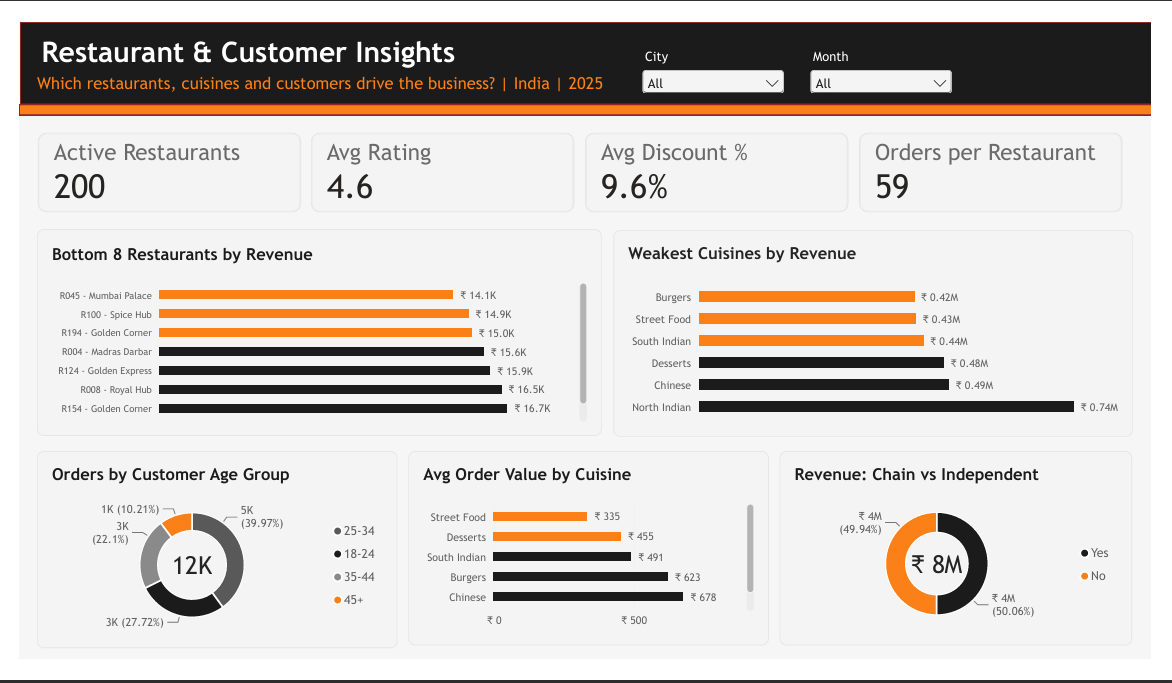

The dashboard page shown, as its layout file describes it:
{"tool":"powerbi","page":{"name":"Restaurant & Customer Insight","canvas":[1280,720],"ordinal":2},"visuals":[{"type":"shape","box":[1,0,1919,93.4],"z":0},{"type":"textbox","box":[24.9,14.9,614.6,63.3],"z":1000},{"type":"textbox","box":[19.5,56.9,666.9,34.2],"z":2000},{"type":"shape","box":[0,92.7,1919,12],"z":3000},{"type":"cardVisual","fields":{"Data":["orders.Active Restaurants"]},"box":[20.6,125,298,90],"z":4000},{"type":"cardVisual","fields":{"Data":["orders.Avg Rating"]},"box":[330,125,298,90],"z":5000},{"type":"cardVisual","fields":{"Data":["orders.Avg Discount %"]},"box":[640,125,298,90],"z":6000},{"type":"cardVisual","fields":{"Data":["orders.Orders per Restaurant"]},"box":[950,125,298,90],"z":7000},{"type":"clusteredBarChart","title":"Weakest Cuisines by Revenue","fields":{"Category":["orders.Cuisine"],"Y":["orders.Total Revenue"]},"box":[672,235,588,234],"z":8000},{"type":"clusteredBarChart","title":"Bottom 8 Restaurants by Revenue","fields":{"Category":["restaurants.Restaurant Label"],"Y":["orders.Total Revenue"]},"box":[19.5,234.2,639.2,234.2],"z":9000},{"type":"donutChart","title":"Orders by Customer Age Group","fields":{"Category":["orders.Customer_Age_Group"],"Y":["orders.Total Orders"]},"box":[20,485,408,223],"z":10000},{"type":"clusteredBarChart","title":"Avg Order Value by Cuisine","fields":{"Category":["orders.Cuisine"],"Y":["orders.Avg Order Value"]},"box":[440,485,408,220],"z":11000},{"type":"donutChart","title":"Revenue: Chain vs Independent","fields":{"Category":["restaurants.Is_Chain"],"Y":["orders.Total Revenue"]},"box":[860,485,399,220],"z":12000},{"type":"slicer","fields":{"Values":["orders.City"]},"box":[700,30,170,50],"z":13000},{"type":"slicer","fields":{"Values":["Calendar.Month"]},"box":[890,30,170,50],"z":14000}]}

Visuals, with their boxes on the page's 1280x720 design canvas (x1, y1, x2, y2). These are canvas units, not pixel positions in the 1172x683 screenshot, which may show the page scaled, cropped or inside an application window:
shape: [1, 0, 1920, 93]
textbox: [25, 15, 640, 78]
textbox: [20, 57, 686, 91]
shape: [0, 93, 1919, 105]
cardVisual - orders.Active Restaurants: [21, 125, 319, 215]
cardVisual - orders.Avg Rating: [330, 125, 628, 215]
cardVisual - orders.Avg Discount %: [640, 125, 938, 215]
cardVisual - orders.Orders per Restaurant: [950, 125, 1248, 215]
"Weakest Cuisines by Revenue" clusteredBarChart: [672, 235, 1260, 469]
"Bottom 8 Restaurants by Revenue" clusteredBarChart: [20, 234, 659, 468]
"Orders by Customer Age Group" donutChart: [20, 485, 428, 708]
"Avg Order Value by Cuisine" clusteredBarChart: [440, 485, 848, 705]
"Revenue: Chain vs Independent" donutChart: [860, 485, 1259, 705]
slicer - orders.City: [700, 30, 870, 80]
slicer - Calendar.Month: [890, 30, 1060, 80]
